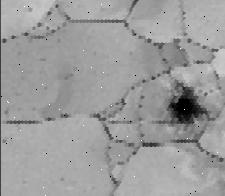good_void: (166, 81, 212, 130), (1, 138, 9, 146), (4, 108, 11, 115)
